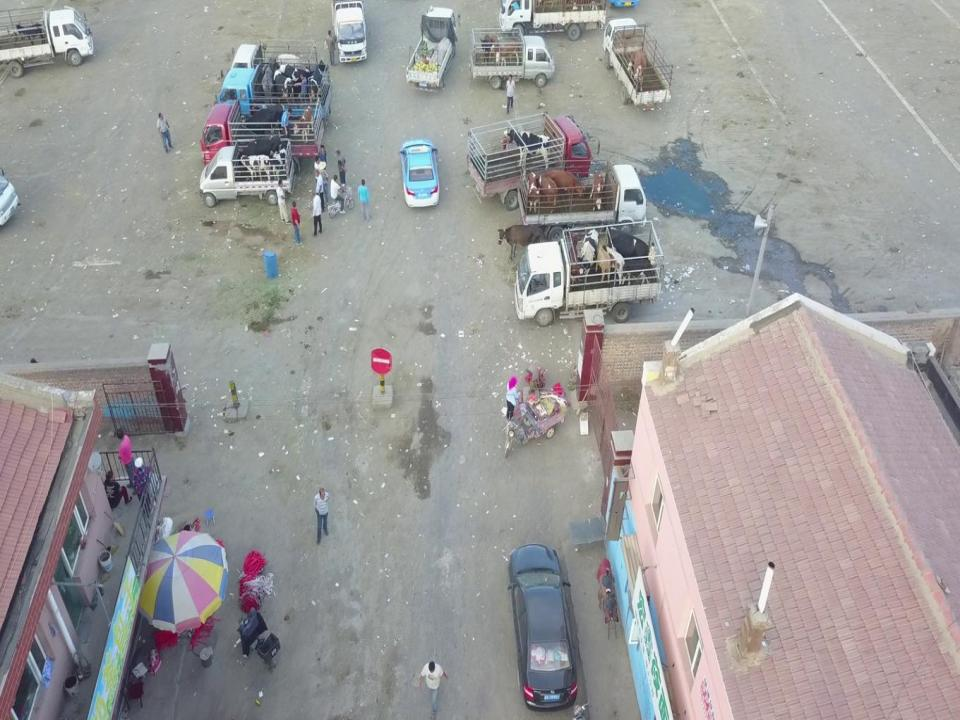car: (504, 543, 582, 712), (398, 138, 443, 209)
truck: (514, 219, 664, 328), (466, 109, 601, 211), (516, 159, 646, 245), (199, 95, 325, 172), (213, 62, 332, 127), (0, 4, 95, 79), (198, 137, 295, 207), (602, 18, 674, 108), (467, 27, 554, 90), (403, 4, 461, 93), (227, 38, 319, 93), (497, 0, 607, 42), (330, 0, 370, 63)
